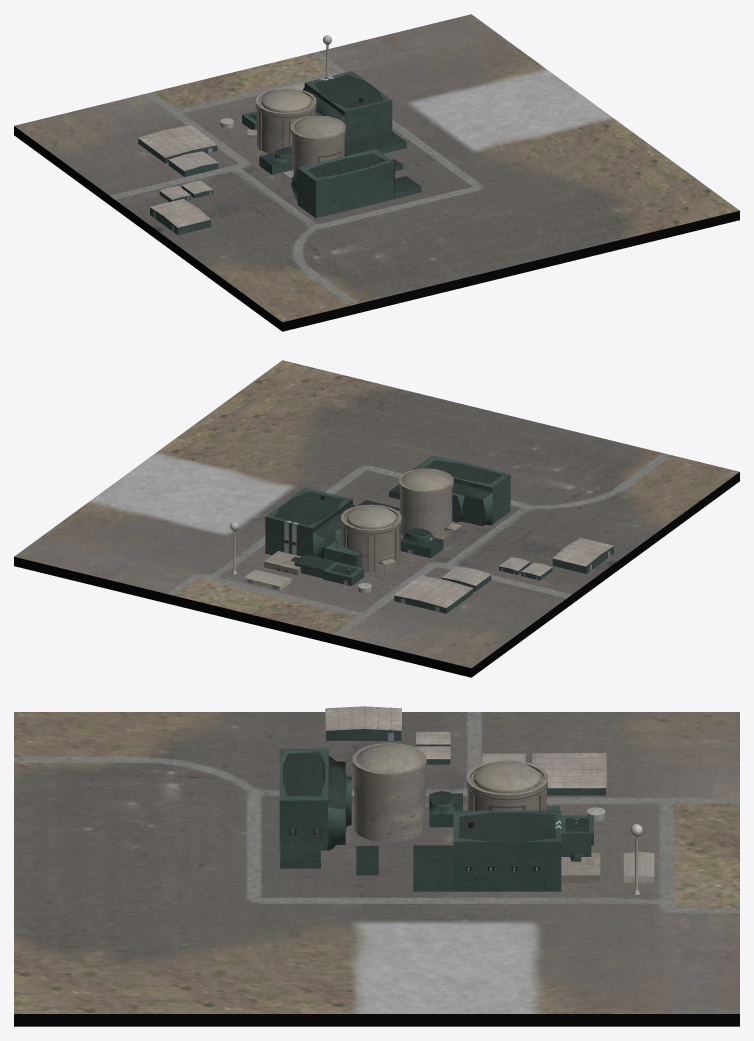
The model's file is Nuclear Plant.fbx.
The picture shows the model from 3 angles, top to bottom: view 1: azimuth 30°, elevation 25°; view 2: azimuth 150°, elevation 25°; view 3: azimuth 270°, elevation 25°; orthographic projection. The views are drawn at different scales.
Visible parts, largest first — view 1: Plane, polySurface46, polySurface56, polySurface6, polySurface55, polySurface79, polySurface47, polySurface60, polySurface53, polySurface49, polySurface5; view 2: Plane, polySurface46, polySurface55, polySurface79, polySurface6, polySurface47, polySurface60, polySurface5, polySurface49, polySurface43, polySurface41, polySurface48 (+2 smaller); view 3: Plane, polySurface46, polySurface55, polySurface6, polySurface78, polySurface79, polySurface47, polySurface60, polySurface53, polySurface5, polySurface26, polySurface45 (+5 smaller).
Boxes of the visible parts, bbox=[...] form: Plane: bbox=[14, 14, 739, 331]; polySurface46: bbox=[303, 71, 392, 142]; polySurface56: bbox=[316, 163, 393, 217]; polySurface6: bbox=[256, 88, 316, 153]; polySurface55: bbox=[291, 149, 394, 218]; polySurface79: bbox=[291, 115, 345, 179]; polySurface47: bbox=[138, 125, 217, 163]; polySurface60: bbox=[149, 199, 211, 234]; polySurface53: bbox=[344, 131, 406, 155]; polySurface49: bbox=[168, 151, 218, 176]; polySurface5: bbox=[259, 146, 291, 174]; Plane: bbox=[14, 360, 739, 677]; polySurface46: bbox=[265, 487, 354, 557]; polySurface55: bbox=[413, 455, 510, 526]; polySurface79: bbox=[399, 468, 453, 539]; polySurface6: bbox=[341, 504, 401, 572]; polySurface47: bbox=[393, 575, 473, 613]; polySurface60: bbox=[552, 537, 613, 573]; polySurface5: bbox=[400, 527, 443, 558]; polySurface49: bbox=[441, 566, 491, 591]; polySurface43: bbox=[323, 562, 364, 586]; polySurface41: bbox=[322, 538, 361, 567]; polySurface48: bbox=[244, 569, 291, 590]; Plane: bbox=[14, 712, 739, 1026]; polySurface46: bbox=[453, 810, 561, 891]; polySurface55: bbox=[279, 748, 351, 850]; polySurface6: bbox=[466, 760, 547, 810]; polySurface78: bbox=[366, 773, 420, 842]; polySurface79: bbox=[352, 743, 426, 838]; polySurface47: bbox=[532, 753, 606, 795]; polySurface60: bbox=[325, 706, 401, 740]; polySurface53: bbox=[413, 845, 453, 891]; polySurface5: bbox=[429, 790, 462, 827]; polySurface26: bbox=[280, 843, 320, 868]; polySurface45: bbox=[561, 853, 600, 882].
Size of the model in its own units: 14569 by 2016 by 14808.
Materials: 1 (1 with a texture image).
